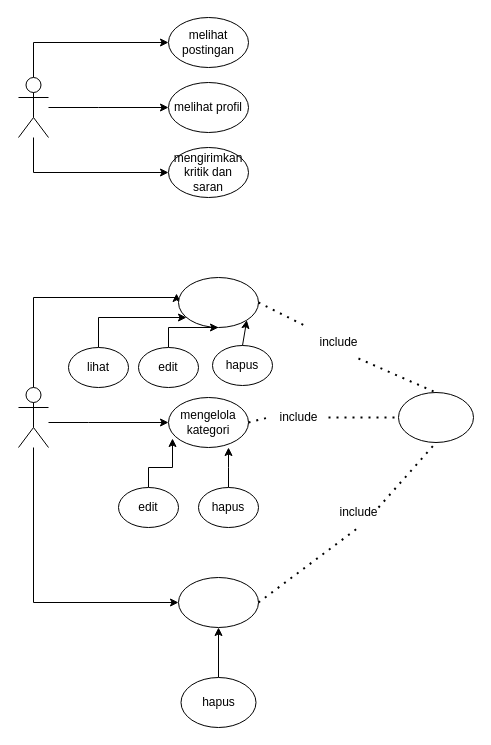
The diagram is 491 pixels wide and 745 high, and some of its shapes have lost their labels. The centre of each missing label's shape, as x and y in pixels:
admin: point (33, 417)
login: point (436, 417)
mengelola pesan: point (218, 602)
mengelola postingan: point (218, 302)
user: point (33, 107)
